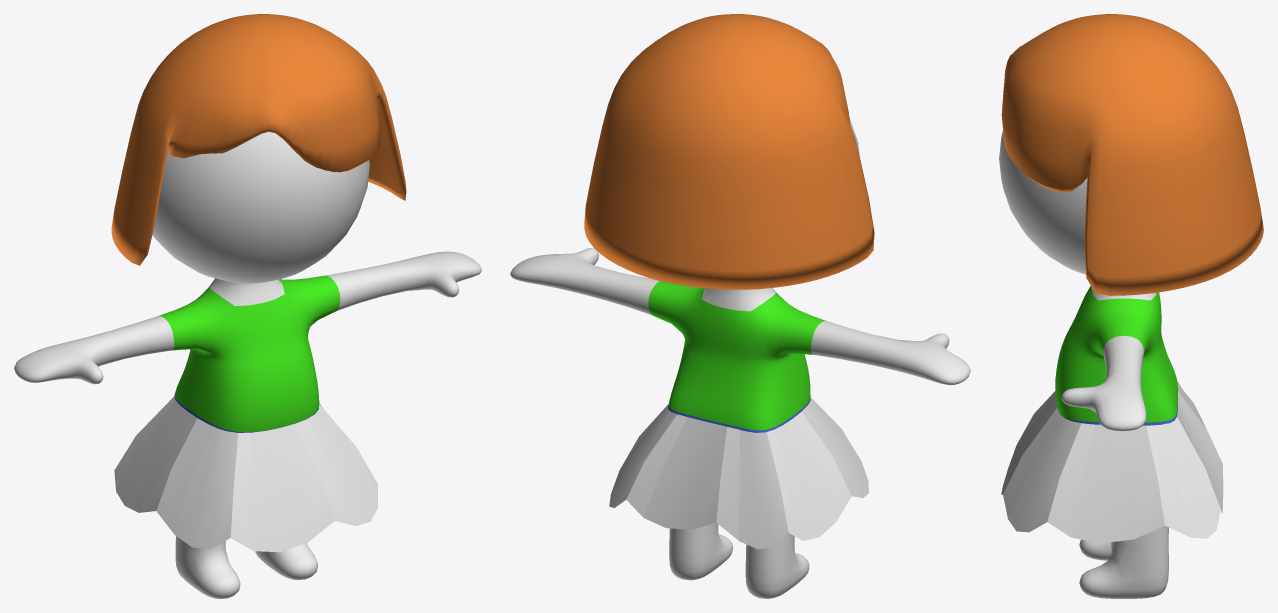
Rendered from _irl.fbx.
3 renders of one model, left to right at view 1: azimuth 30°, elevation 25°; view 2: azimuth 150°, elevation 25°; view 3: azimuth 270°, elevation 25°, orthographic.
Parts seen in each view (by area): view 1: Sphere.001, Cube, Cube.001, Sphere; view 2: Sphere.001, Cube, Cube.001; view 3: Sphere.001, Cube.001, Cube, Sphere.
Boxes of the visible parts, <box> form: Sphere.001: <box>111,14,406,265</box>; Cube: <box>14,251,481,598</box>; Cube.001: <box>114,396,377,552</box>; Sphere: <box>152,132,369,283</box>; Sphere.001: <box>584,14,874,289</box>; Cube: <box>510,248,970,598</box>; Cube.001: <box>609,397,868,549</box>; Sphere.001: <box>1001,14,1263,295</box>; Cube.001: <box>1001,381,1223,543</box>; Cube: <box>1055,286,1177,598</box>; Sphere: <box>999,131,1087,274</box>.
Bounding box in the file's own units: 746 × 864 × 373.
